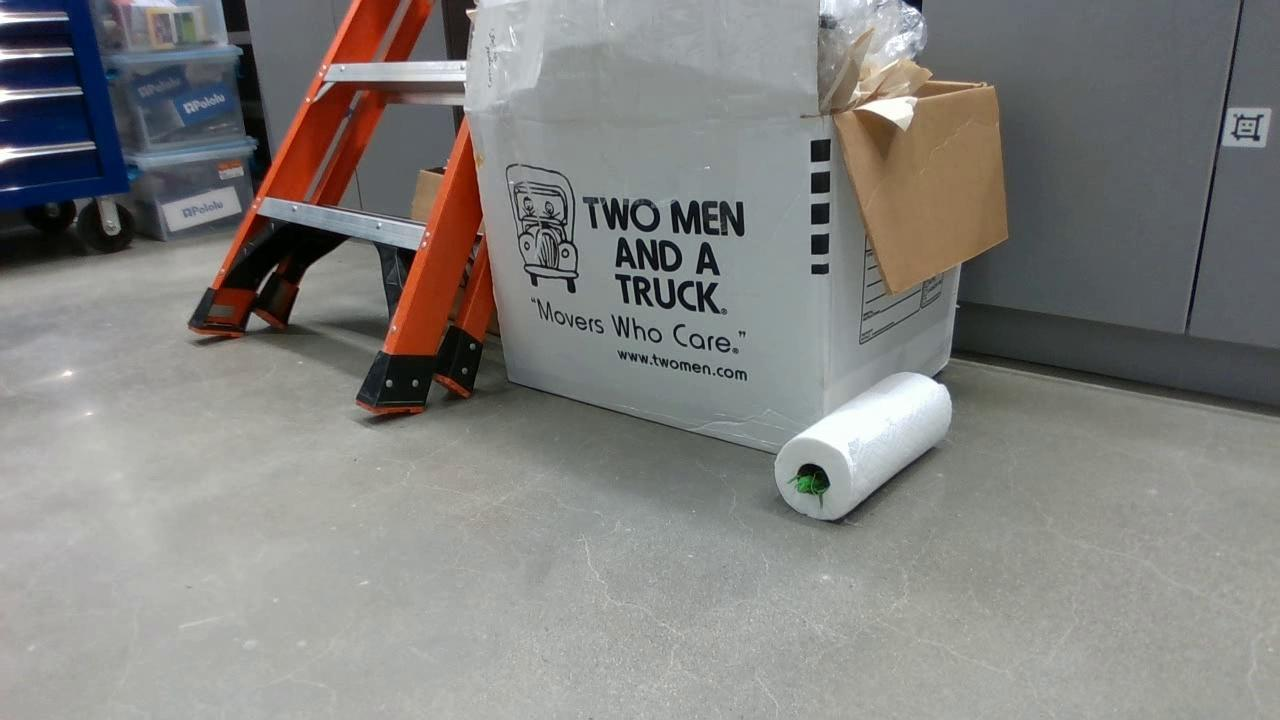grasshopper: (782, 465, 831, 502)
